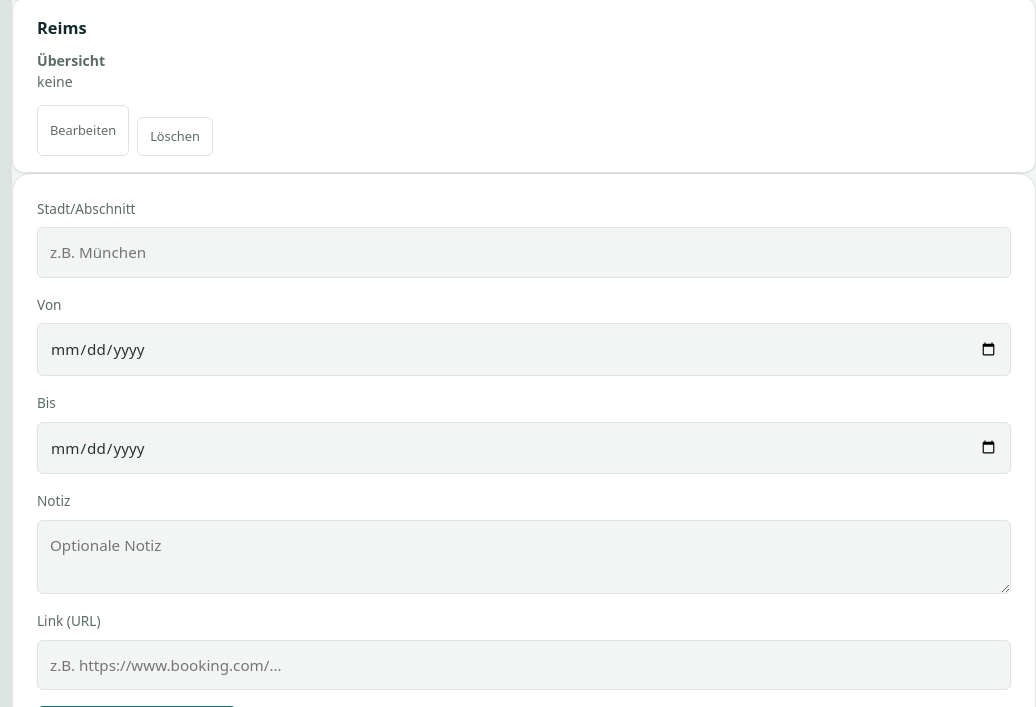
Test: Etappen bearbeiten › Nutzerpfad: Bearbeiten abbrechen laesst den Eintrag unveraendert
Expected: the text "Reims" is shown, [37, 16, 86, 42]
Click the button "Bearbeiten".
click(83, 130)  # box [37, 105, 129, 156]
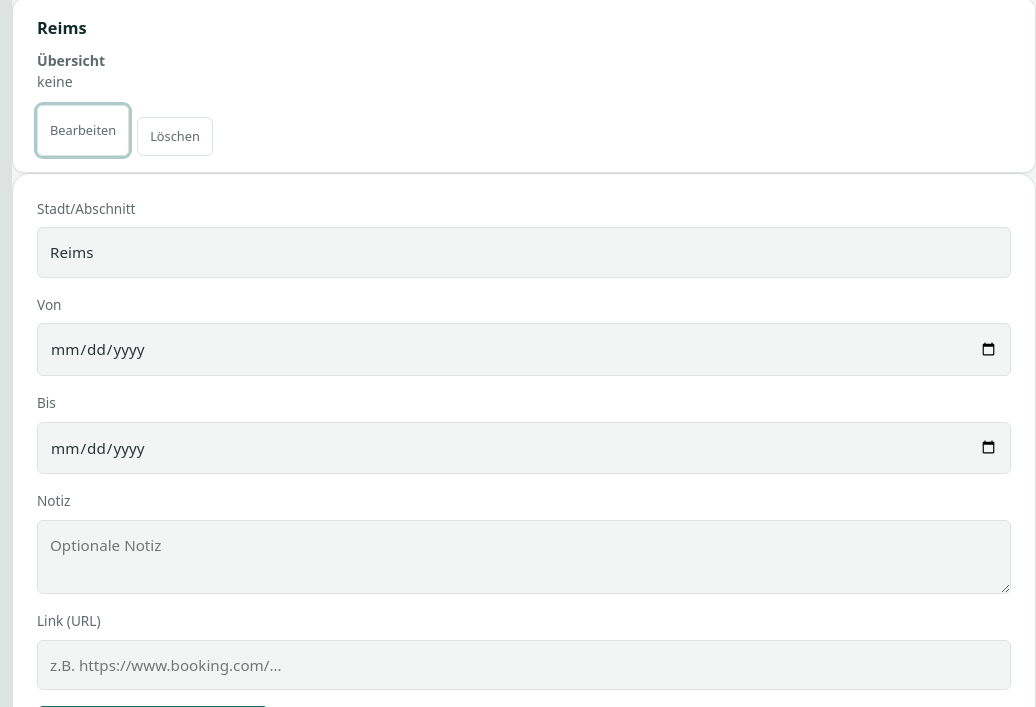
Replace the text in the field labelled "Stadt/Abschnitt" with "Verworfen" at [524, 253], box [37, 227, 1011, 278]
(page scrolled)
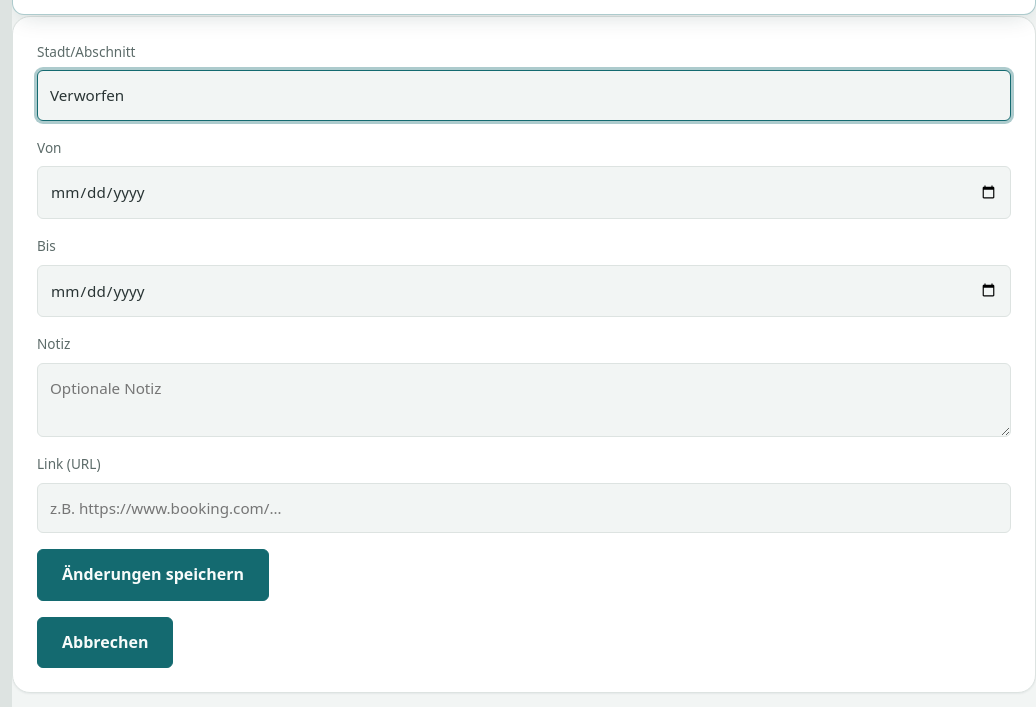
Click the button "Abbrechen".
click(105, 643)  # box [37, 617, 173, 668]
(page scrolled)
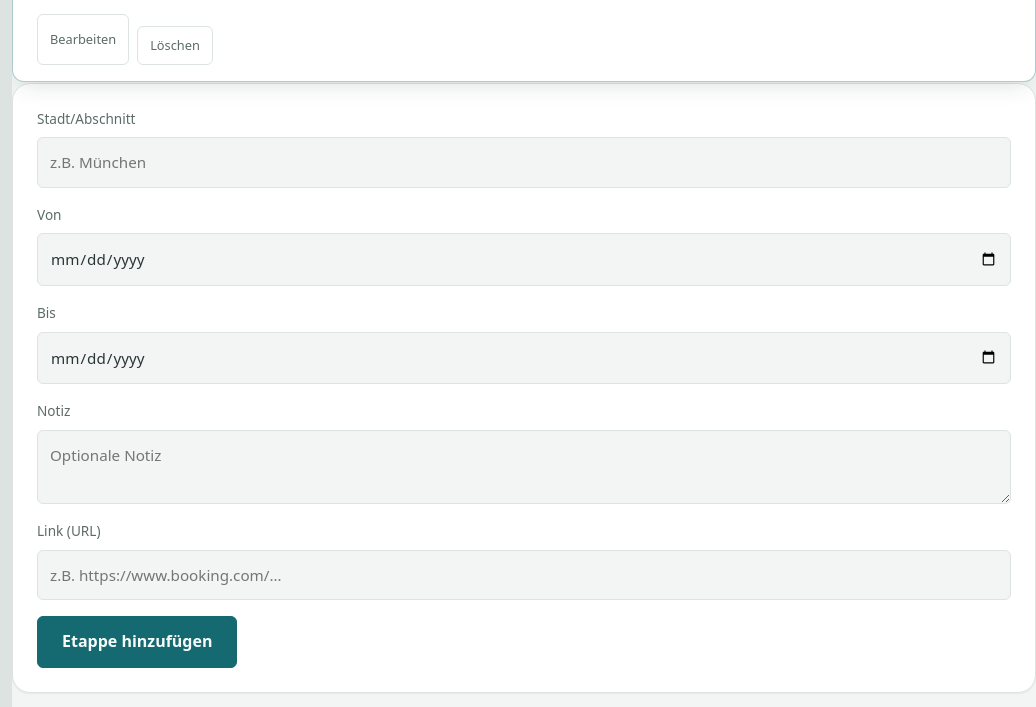
Expected: the text "Verworfen" is not shown
Expected: the button "Etappe hinzufügen" is shown, [37, 616, 238, 668]
